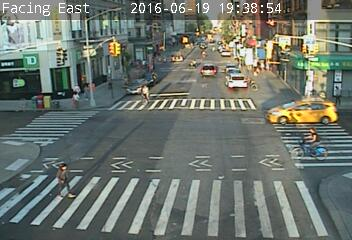neg: (170, 144, 212, 200), (290, 121, 329, 173), (207, 96, 235, 133), (100, 123, 125, 156), (262, 46, 282, 73), (136, 81, 156, 107), (233, 49, 248, 68)
pos: (45, 153, 83, 203), (68, 88, 83, 108)
